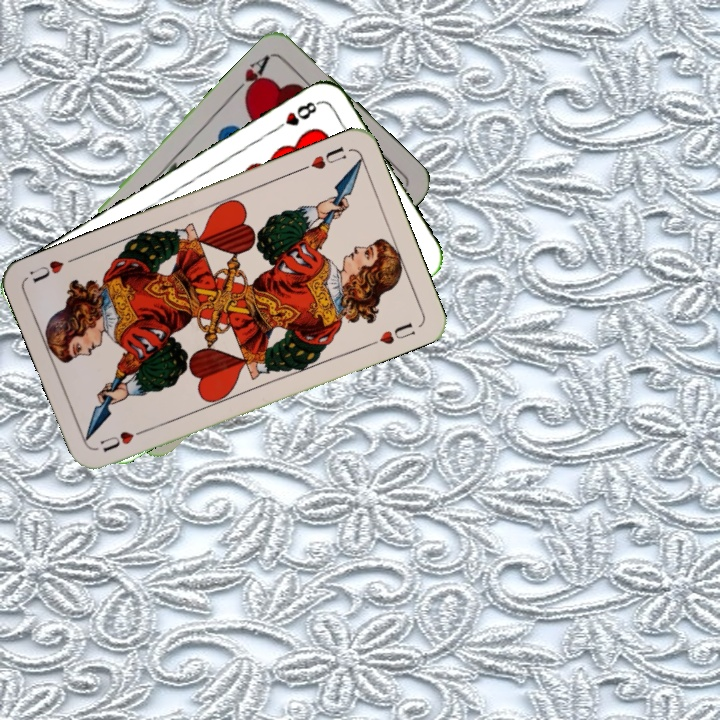H8: (269, 97, 323, 135)
HA: (228, 50, 273, 102)
HU: (96, 424, 151, 455), (296, 142, 349, 174)
